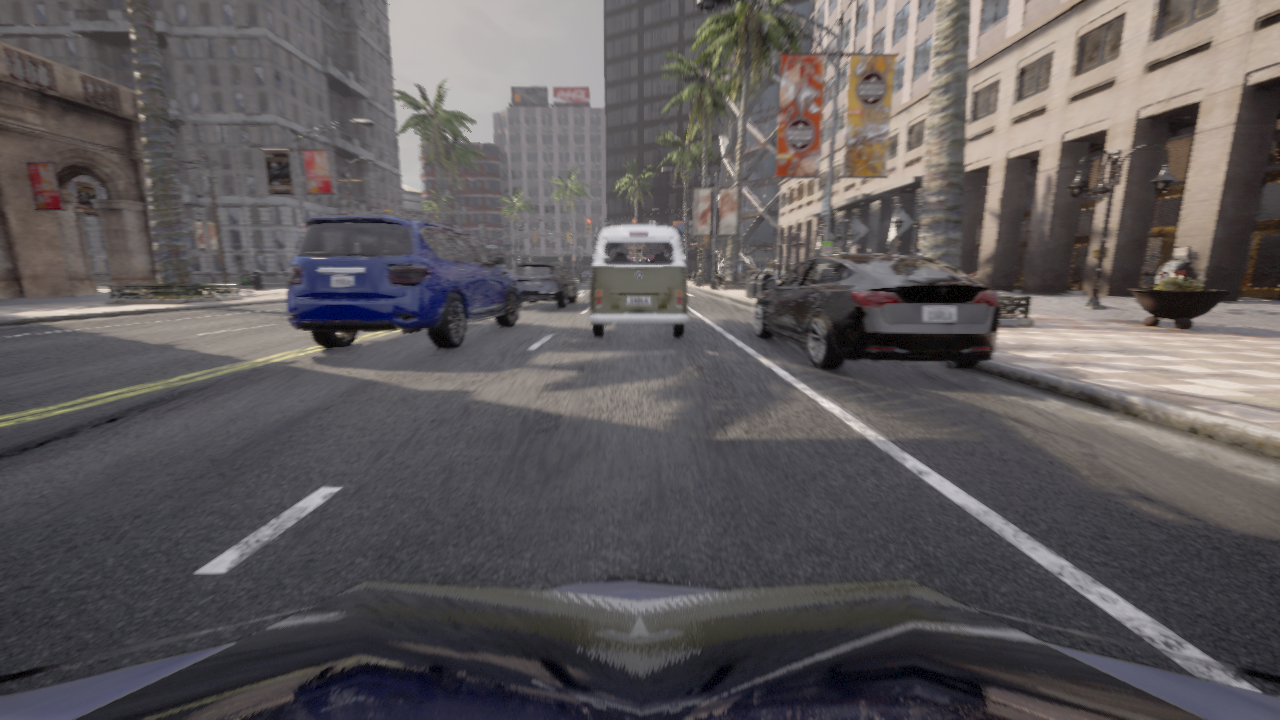cyclist: (0, 569, 1279, 719), (286, 216, 519, 348), (754, 254, 1000, 368), (589, 225, 688, 337), (514, 262, 577, 307), (238, 274, 253, 286), (580, 270, 591, 281)
pedestrian: (744, 263, 750, 279), (738, 274, 741, 283), (750, 264, 753, 269)
